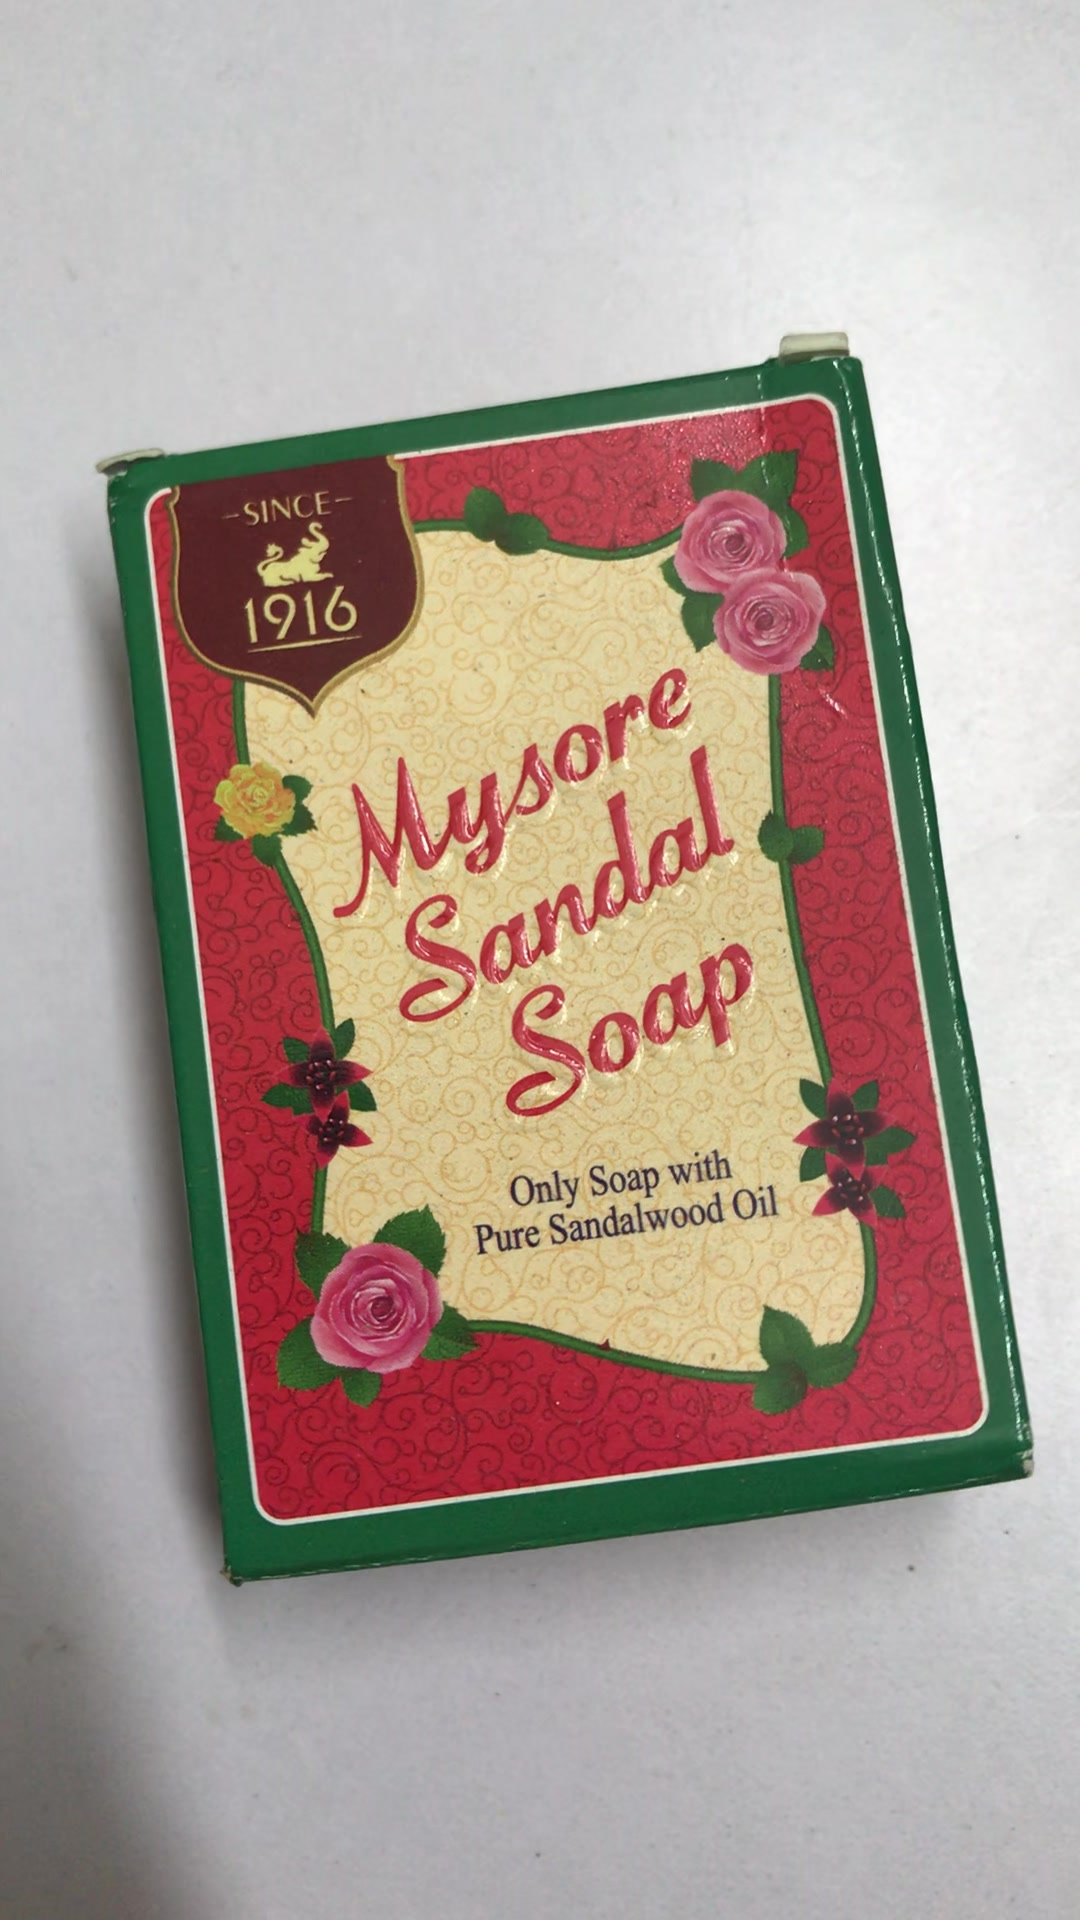mysore sandal soap: (105, 353, 1036, 1571)
